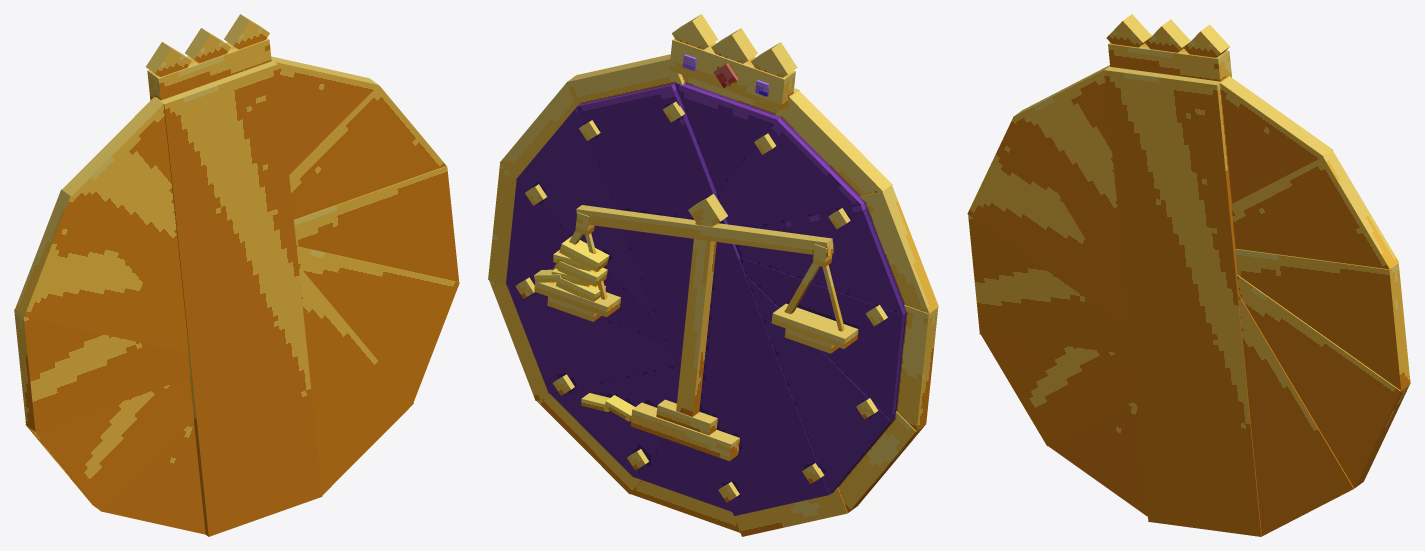
Rendered from seal.gltf.
3 renders of one model, left to right at view 1: azimuth 30°, elevation 25°; view 2: azimuth 150°, elevation 25°; view 3: azimuth 330°, elevation 25°, orthographic.
Visible parts, largest first — view 1: gold_rim, gold_rim_b1, gold_rim_b2, gold_rim_b3, gold_rim_b4, gold_rim_b5, gold_crown_band, gold_crown_spike_c, gold_crown_spike_r, gold_crown_spike_l; view 2: purple_field_b5, purple_field_b4, purple_field_b2, purple_field_b1, purple_field_b3, purple_field, gold_rim_b2, gold_rim_b1, gold_rim_b3, gold_rim_b5, gold_rim_b4, gold_scale_beam (+14 smaller); view 3: gold_rim, gold_rim_b2, gold_rim_b1, gold_rim_b3, gold_rim_b4, gold_rim_b5, gold_crown_band, gold_crown_spike_r, gold_crown_spike_l, gold_crown_spike_c.
Boxes of the visible parts, bbox=[...] form: gold_rim: bbox=[155, 60, 322, 536]; gold_rim_b1: bbox=[62, 97, 413, 495]; gold_rim_b2: bbox=[15, 189, 459, 402]; gold_rim_b3: bbox=[14, 166, 458, 431]; gold_rim_b4: bbox=[25, 85, 446, 511]; gold_rim_b5: bbox=[102, 56, 378, 534]; gold_crown_band: bbox=[147, 38, 271, 100]; gold_crown_spike_c: bbox=[185, 28, 230, 63]; gold_crown_spike_r: bbox=[224, 14, 269, 49]; gold_crown_spike_l: bbox=[146, 42, 191, 76]; purple_field_b5: bbox=[576, 82, 829, 515]; purple_field_b4: bbox=[516, 107, 894, 494]; purple_field_b2: bbox=[507, 202, 906, 393]; purple_field_b1: bbox=[550, 117, 864, 477]; purple_field_b3: bbox=[506, 180, 906, 420]; purple_field: bbox=[634, 82, 781, 511]; gold_rim_b2: bbox=[489, 185, 938, 400]; gold_rim_b1: bbox=[537, 91, 892, 494]; gold_rim_b3: bbox=[488, 164, 938, 431]; gold_rim_b5: bbox=[567, 54, 847, 536]; gold_rim_b4: bbox=[500, 82, 924, 512]; gold_scale_beam: bbox=[576, 205, 833, 256]; gold_rim: bbox=[1104, 66, 1261, 536]; gold_rim_b2: bbox=[967, 117, 1409, 488]; gold_rim_b1: bbox=[1013, 65, 1354, 536]; gold_rim_b3: bbox=[968, 214, 1410, 390]; gold_rim_b4: bbox=[981, 150, 1398, 446]; gold_rim_b5: bbox=[1048, 76, 1332, 516]; gold_crown_band: bbox=[1108, 42, 1231, 81]; gold_crown_spike_r: bbox=[1184, 24, 1229, 57]; gold_crown_spike_l: bbox=[1106, 14, 1151, 47]; gold_crown_spike_c: bbox=[1145, 19, 1190, 52].
Bounding box in the file's own units: 1.33 × 1.46 × 0.155.
2 materials, 2 textured.
